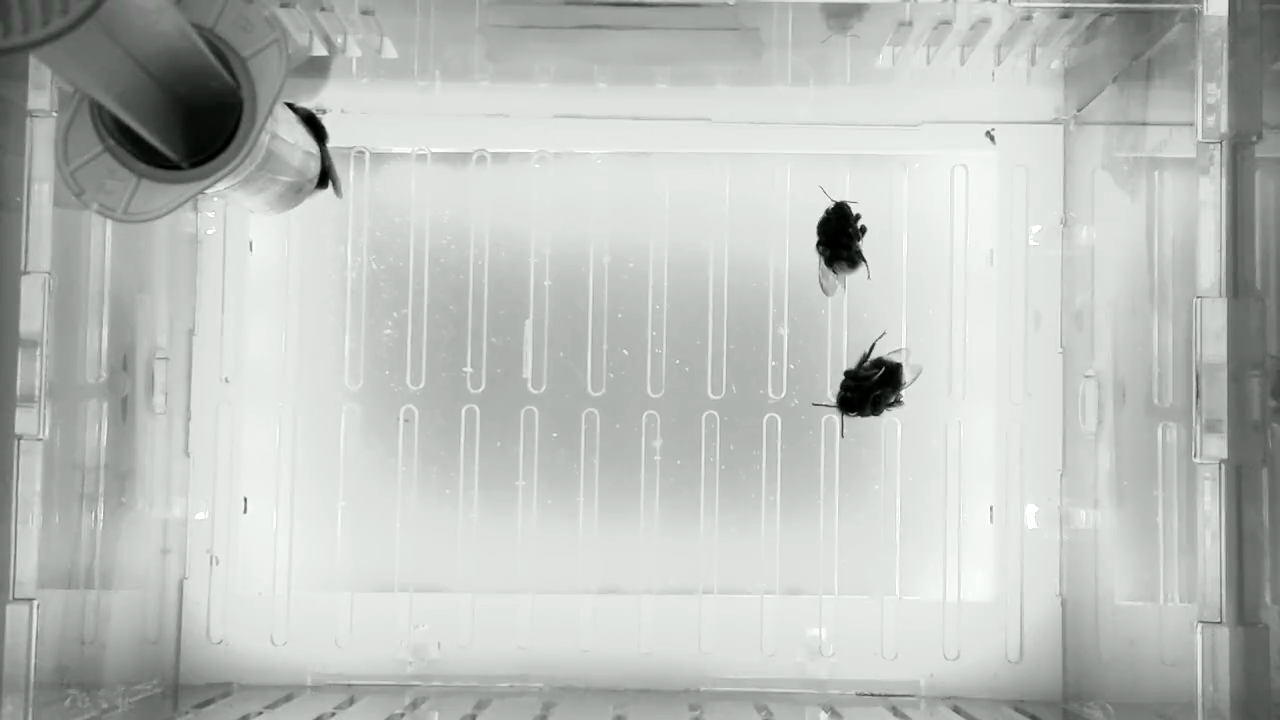bee_alive: (280, 97, 348, 204)
bee_dead: (811, 329, 925, 439), (808, 181, 875, 301)
feeder: (210, 101, 323, 219)
